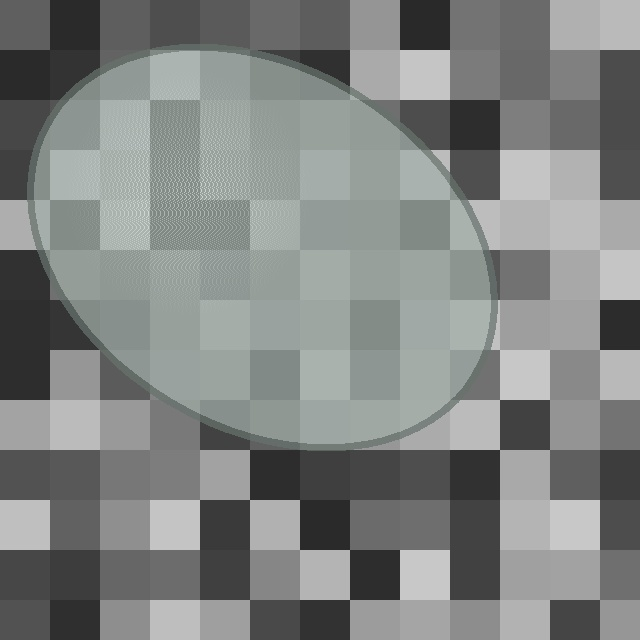lens: (32, 48, 492, 446)
